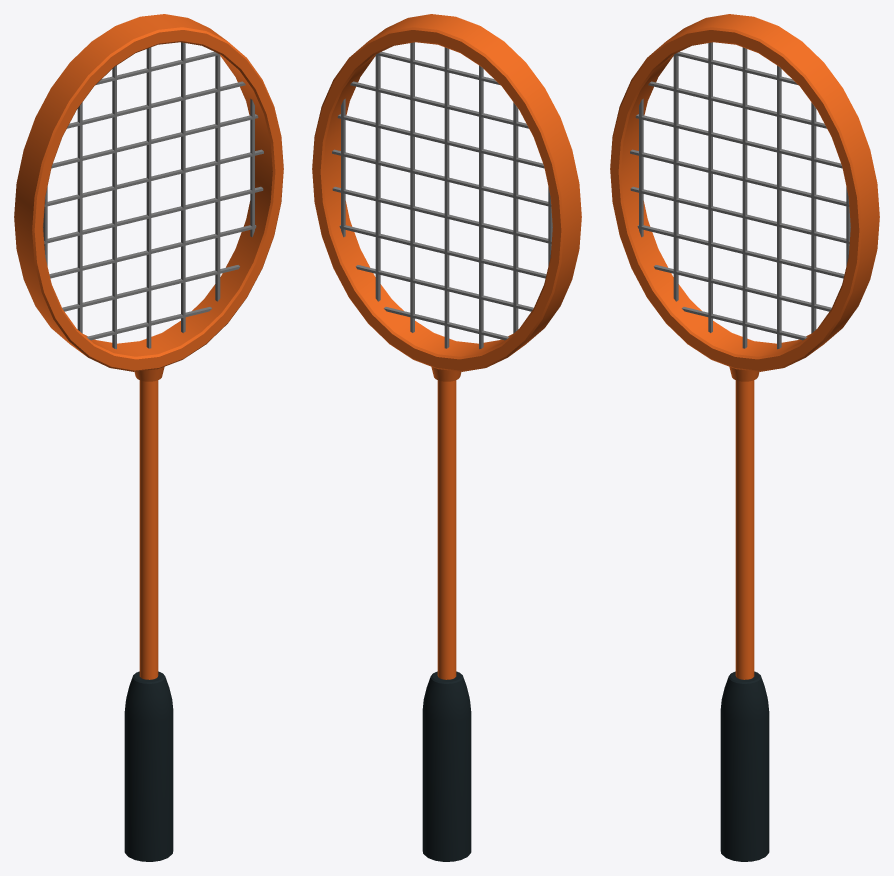
The model's file is BadmintonRacket.fbx.
3 views of the same model, side by side, from view 1: azimuth 30°, elevation 25°; view 2: azimuth 150°, elevation 25°; view 3: azimuth 330°, elevation 25° (orthographic).
Parts seen in each view (by area): view 1: BadmintonRacket; view 2: BadmintonRacket; view 3: BadmintonRacket.
Boxes of the visible parts, <box> form: BadmintonRacket: <box>14,14,283,861</box>; BadmintonRacket: <box>312,14,581,861</box>; BadmintonRacket: <box>610,14,879,861</box>.
Size of the model in its own units: 21.88 by 68.84 by 3.72.
